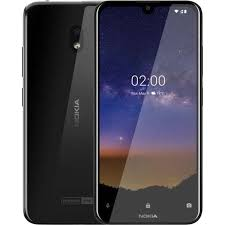nokia: (93, 1, 206, 222), (21, 1, 95, 225)
